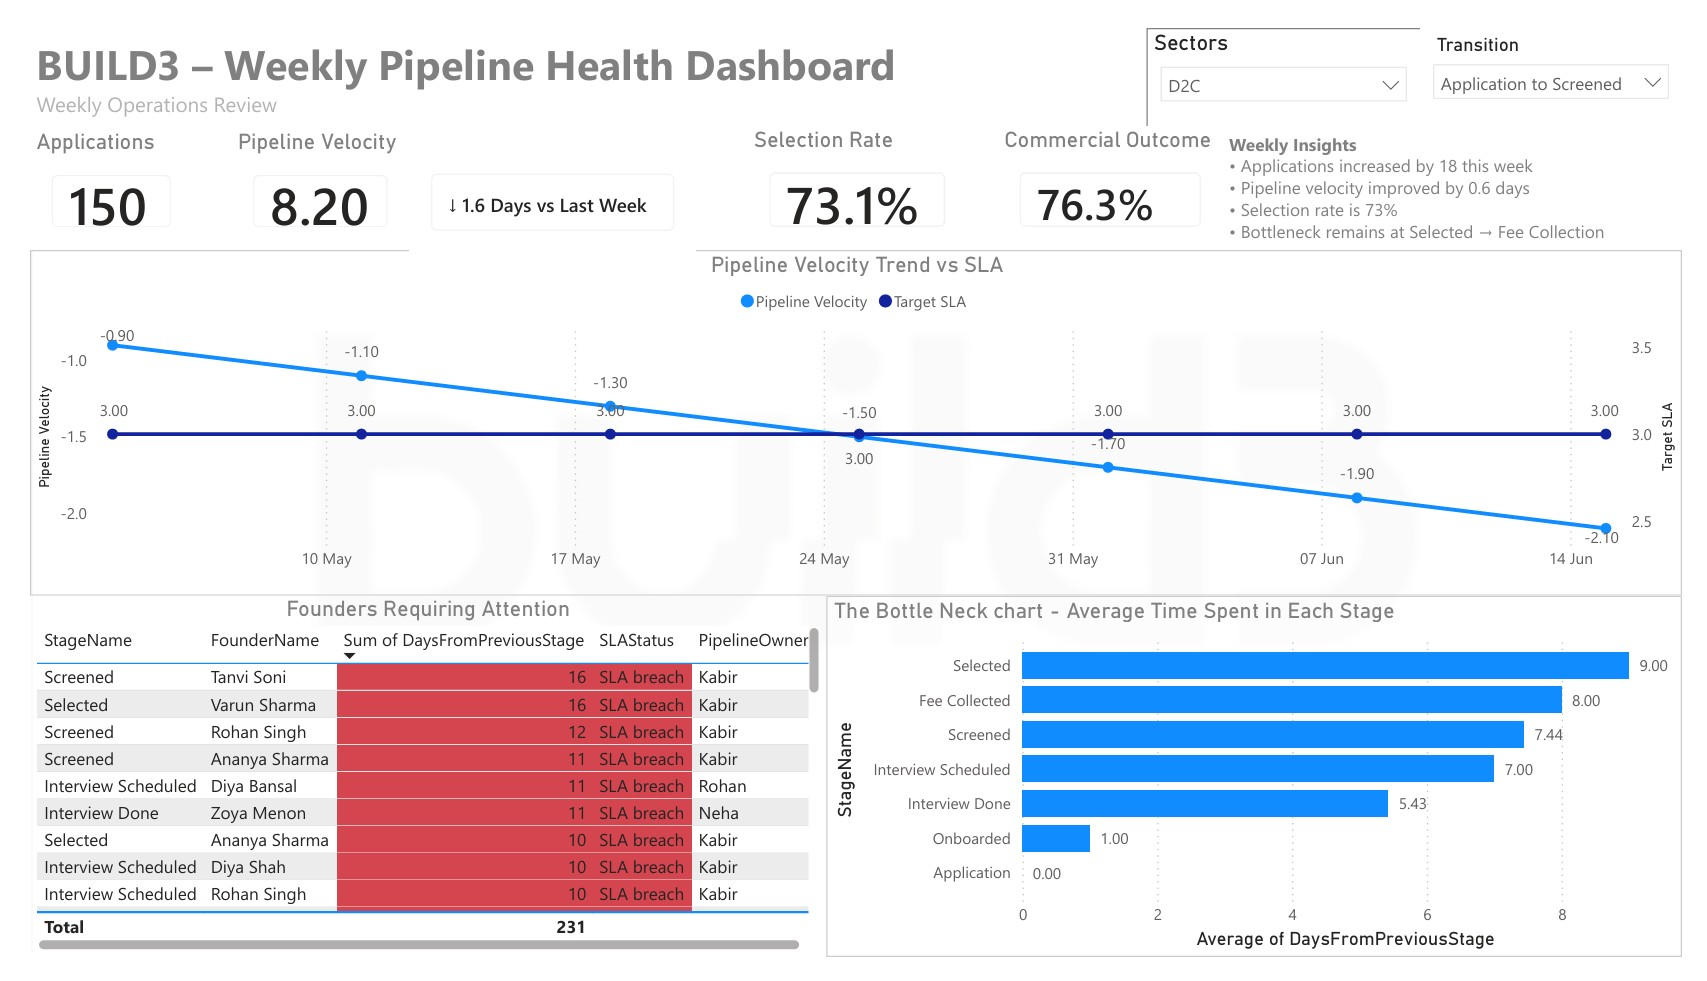

Layout of this report page (visuals, bound fields, positions):
{"tool":"powerbi","page":{"name":"Weekly Pipeline Health","canvas":[1280,720],"ordinal":4},"visuals":[{"type":"textbox","box":[0,0,865,76.7],"z":0},{"type":"lineChart","title":"Pipeline Velocity Trend vs SLA","fields":{"Category":["VelocityTrendTable.WeekStart.Variation.Date Hierarchy.Year","VelocityTrendTable.WeekStart.Variation.Date Hierarchy.Quarter","VelocityTrendTable.WeekStart.Variation.Date Hierarchy.Month","VelocityTrendTable.WeekStart.Variation.Date Hierarchy.Day"],"Y2":["Avg(VelocityTrendTable.SLADays (Committed time))"],"Y":["Avg(VelocityTrendTable.VarianceToSLA)"]},"box":[0,172,1280,268],"z":1000},{"type":"clusteredBarChart","title":"The Bottle Neck chart - Average Time Spent in Each Stage","fields":{"Category":["StageTransitionsTable.StageName"],"Y":["Avg(StageTransitionsTable.DaysFromPreviousStage)"]},"box":[616.7,440,663.3,280],"z":2000},{"type":"tableEx","title":"Founders Requiring Attention","fields":{"Values":["StageTransitionsTable.StageName","StageTransitionsTable.FounderName","Sum(StageTransitionsTable.DaysFromPreviousStage)","StageTransitionsTable.SLAStatus","StageTransitionsTable.PipelineOwner"]},"box":[0,440,616.7,280],"z":3000},{"type":"slicer","title":"Sectors","fields":{"Values":["ApplicantsTable.Sector","ApplicantsTable.PipelineOwner","ApplicantsTable.SelectionDate","ApplicantsTable.ApplicationWeek"]},"box":[865,0,213.3,76.7],"z":4000},{"type":"cardVisual","title":"Pipeline Velocity","fields":{"Data":["Min(WeeklySnapshotTable.PipelineVelocityDays)"]},"box":[156,78,138,94],"z":5000},{"type":"cardVisual","title":"Applications","fields":{"Data":["Max(WeeklySnapshotTable.Applications)"]},"box":[0,78,126,94],"z":7000},{"type":"slicer","fields":{"Values":["VelocityTrendTable.Transition"]},"box":[1077.1,0,202.9,75.7],"z":8001},{"type":"cardVisual","title":"Selection Rate","fields":{"Data":["Max(WeeklySnapshotTable.Interview-SelectionRate)"]},"box":[556,76,170,96],"z":8004},{"type":"cardVisual","title":"Commercial Outcome","fields":{"Data":["Max(WeeklySnapshotTable.Offer-To-PaymentRate)"]},"box":[750,76,174,96],"z":8005},{"type":"textbox","box":[924,76,356,96],"z":8006},{"type":"cardVisual","fields":{"Data":["WeeklySnapshotTable.Velocity KPI"]},"box":[294,96,222,78],"z":8007}]}

Visuals, with their boxes in screenshot pixels (x1, y1, x2, y2), scaled from the page's 1280x720 canvas onto the 1707x981 screenshot:
textbox: x1=0, y1=0, x2=1154, y2=105
"Pipeline Velocity Trend vs SLA" lineChart: x1=0, y1=234, x2=1706, y2=600
"The Bottle Neck chart - Average Time Spent in Each Stage" clusteredBarChart: x1=822, y1=600, x2=1706, y2=980
"Founders Requiring Attention" tableEx: x1=0, y1=600, x2=822, y2=980
"Sectors" slicer: x1=1154, y1=0, x2=1438, y2=105
"Pipeline Velocity" cardVisual: x1=208, y1=106, x2=392, y2=234
"Applications" cardVisual: x1=0, y1=106, x2=168, y2=234
slicer - VelocityTrendTable.Transition: x1=1436, y1=0, x2=1706, y2=103
"Selection Rate" cardVisual: x1=741, y1=104, x2=968, y2=234
"Commercial Outcome" cardVisual: x1=1000, y1=104, x2=1232, y2=234
textbox: x1=1232, y1=104, x2=1706, y2=234
cardVisual - WeeklySnapshotTable.Velocity KPI: x1=392, y1=131, x2=688, y2=237
